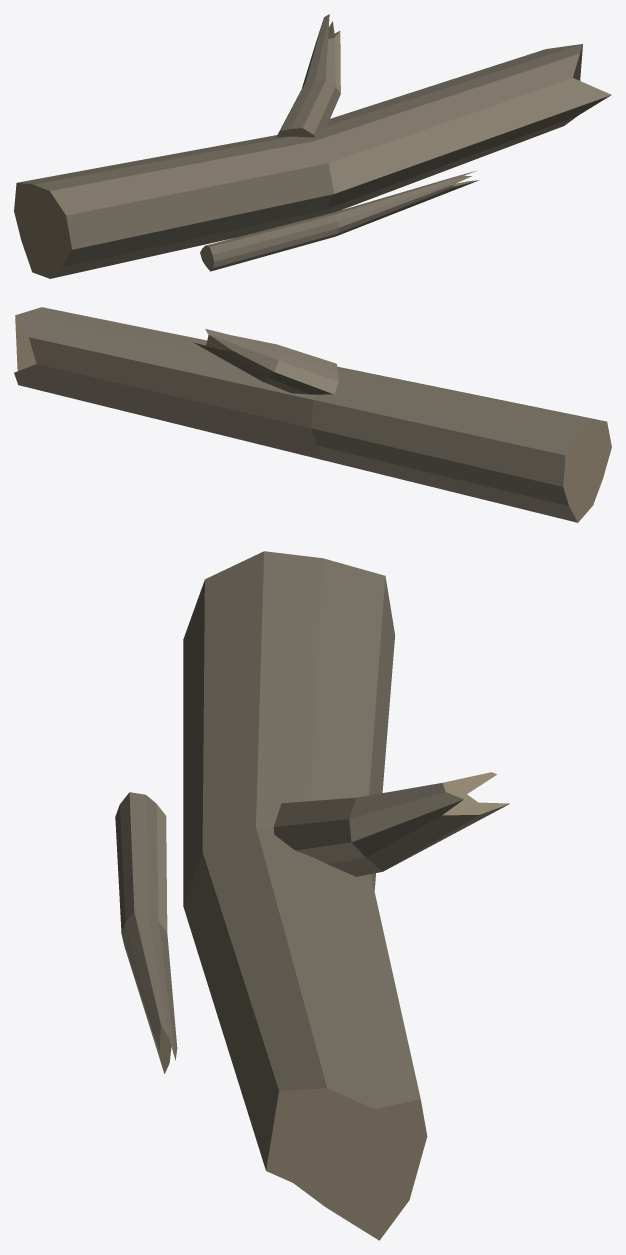
The model's file is ground-prop-split-log-high.glb.
The picture shows the model from 3 angles, top to bottom: view 1: azimuth 30°, elevation 25°; view 2: azimuth 150°, elevation 25°; view 3: azimuth 270°, elevation 25°; orthographic projection. The views are drawn at different scales.
Parts seen in each view (by area): view 1: ground-prop-split-log-high / surface; view 2: ground-prop-split-log-high / surface; view 3: ground-prop-split-log-high / surface.
Boxes of the visible parts, box(x1,y1,x2,y2) form: ground-prop-split-log-high / surface: box(14, 14, 611, 278); ground-prop-split-log-high / surface: box(14, 307, 611, 522); ground-prop-split-log-high / surface: box(115, 551, 509, 1240).
Bounding box in the file's own units: 2.28 × 0.5738 × 0.7052.
